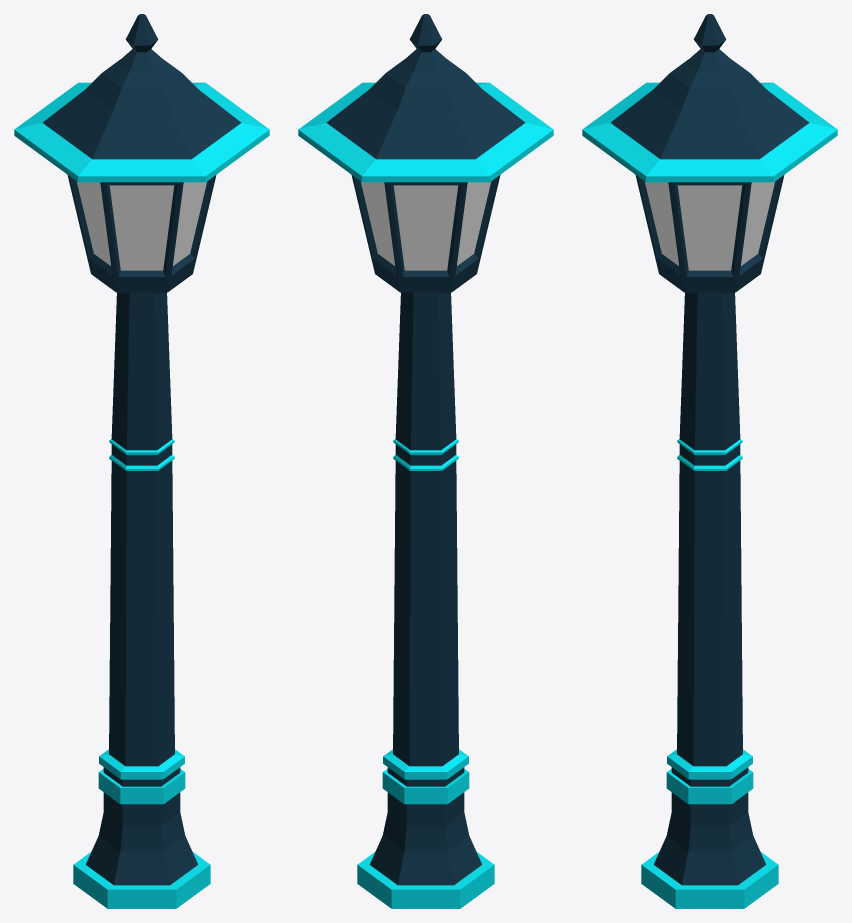
Rendered from lamppost.obj.
The picture shows the model from 3 angles, left to right: view 1: azimuth 30°, elevation 25°; view 2: azimuth 150°, elevation 25°; view 3: azimuth 270°, elevation 25°; orthographic projection.
Parts seen in each view (by area): view 1: Cylinder; view 2: Cylinder; view 3: Cylinder.
Part boxes in pixels (<box>): Cylinder: <box>14,14,269,908</box>; Cylinder: <box>298,14,553,908</box>; Cylinder: <box>582,14,837,908</box>.
Bounding box in the file's own units: 5.36 × 23.2 × 6.18.
